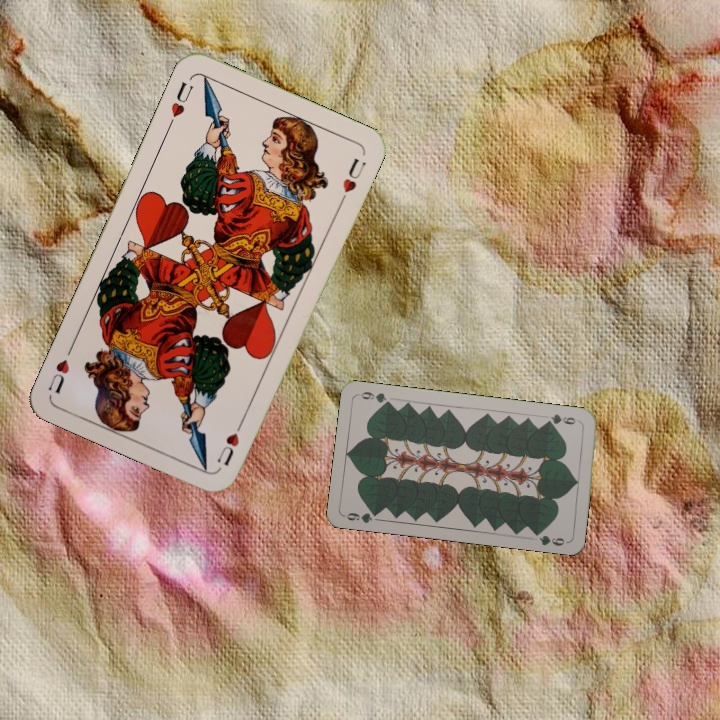G9: (341, 507, 382, 526), (542, 410, 583, 427)
HU: (213, 415, 247, 468), (164, 78, 196, 130)
